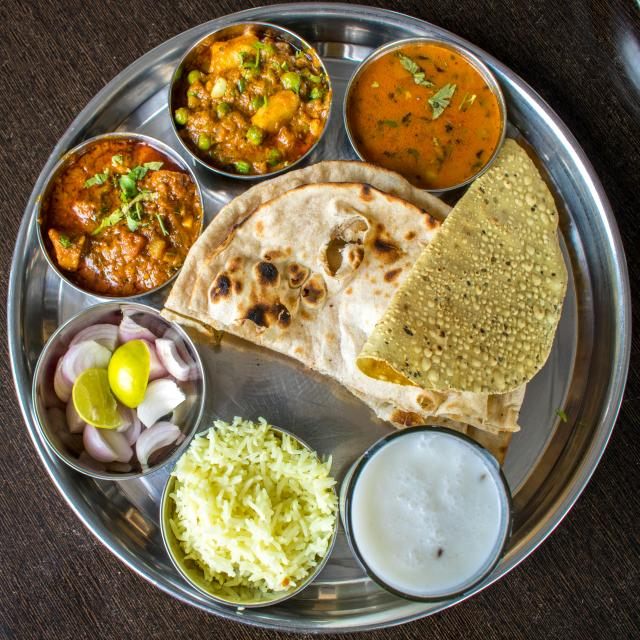Aloo Matar: (170, 19, 333, 177)
Chapati: (176, 165, 464, 420)
Curd: (353, 431, 504, 594)
Dal: (348, 40, 499, 189)
Paneer Curry: (42, 140, 202, 291)
Papad: (366, 145, 569, 410)
Salad: (42, 310, 194, 463)
White Rice: (163, 420, 336, 606)
